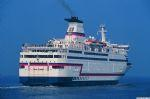youlun: (17, 15, 130, 86)
